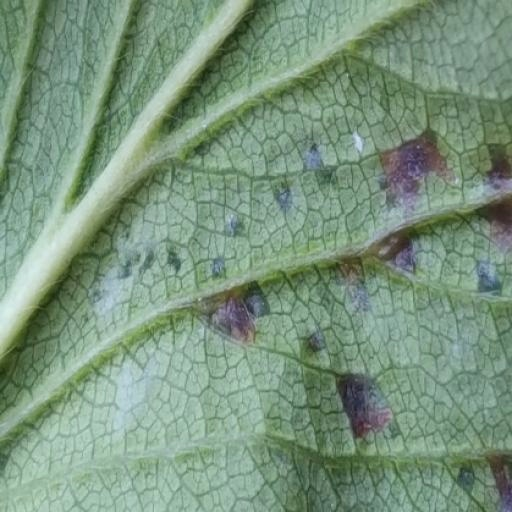Angular Leafspot: (81, 0, 511, 392)
